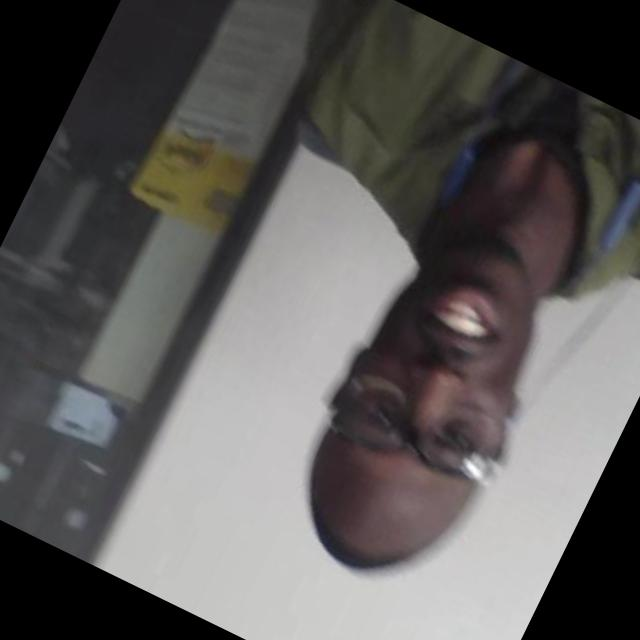bareface: (283, 217, 572, 588)
